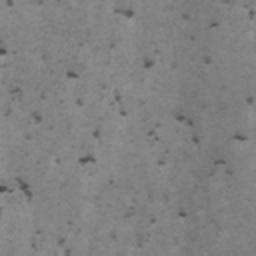Oxide scale of temperature system: (0, 6, 255, 177), (182, 10, 256, 64), (136, 210, 189, 248), (0, 175, 33, 201), (58, 236, 73, 256), (6, 0, 15, 8)
